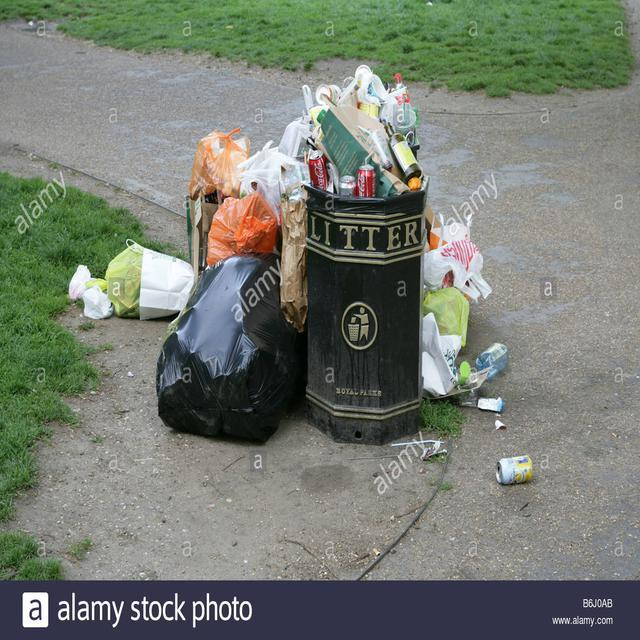garbage: (163, 238, 291, 444), (413, 217, 512, 427), (291, 67, 433, 203), (60, 236, 198, 328), (192, 124, 287, 227), (458, 435, 538, 482)
